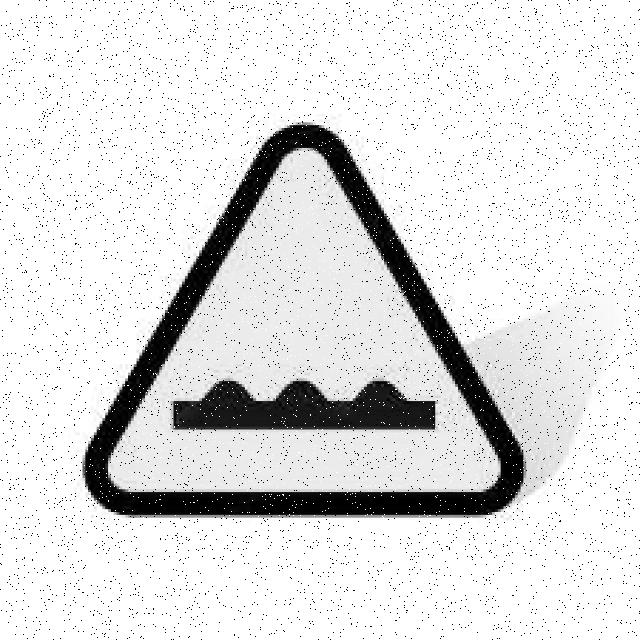Rumble_strip: (78, 101, 536, 514)
